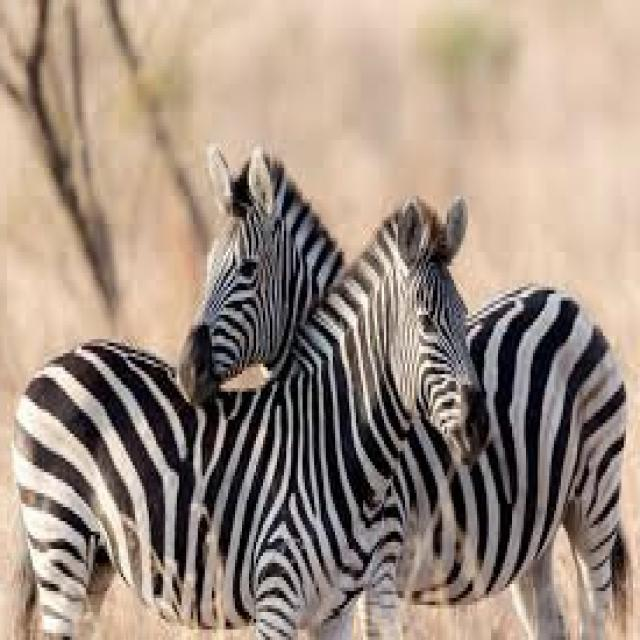zebra: (16, 199, 486, 637), (182, 150, 342, 399)
